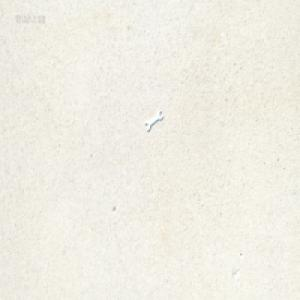Wrench: (144, 109, 163, 131)
